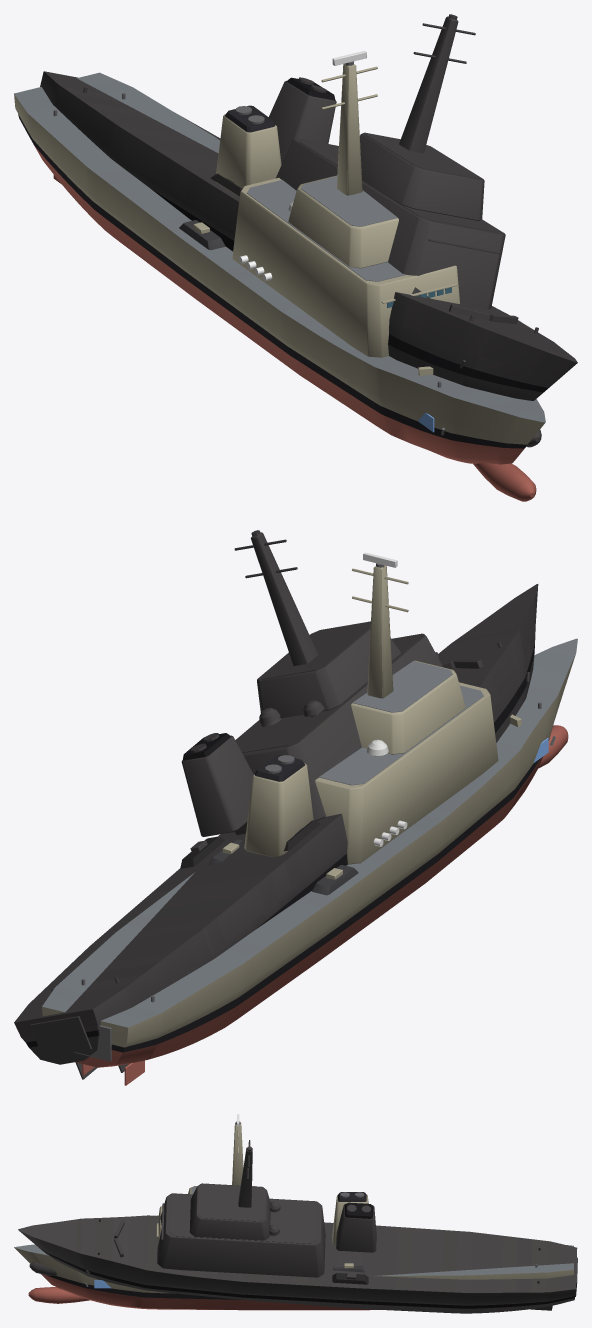
The model's file is gunboat__arafura_class.glb.
The picture shows the model from 3 angles, top to bottom: view 1: azimuth 30°, elevation 25°; view 2: azimuth 150°, elevation 25°; view 3: azimuth 270°, elevation 25°; orthographic projection. The views are drawn at different scales.
Parts seen in each view (by area): view 1: Hull_Mesh, Wreck; view 2: Hull_Mesh, Wreck; view 3: Wreck, Hull_Mesh.
Part boxes in pixels (left/top/right/bottom): Hull_Mesh: left=14, top=63, right=545, bottom=501; Wreck: left=40, top=14, right=577, bottom=447; Hull_Mesh: left=42, top=565, right=577, bottom=1085; Wreck: left=14, top=530, right=538, bottom=1079; Wreck: left=18, top=1140, right=577, bottom=1313; Hull_Mesh: left=14, top=1123, right=573, bottom=1310.
Size of what is drawn, in the model's own units: 19.81 by 31.07 by 83.94.
